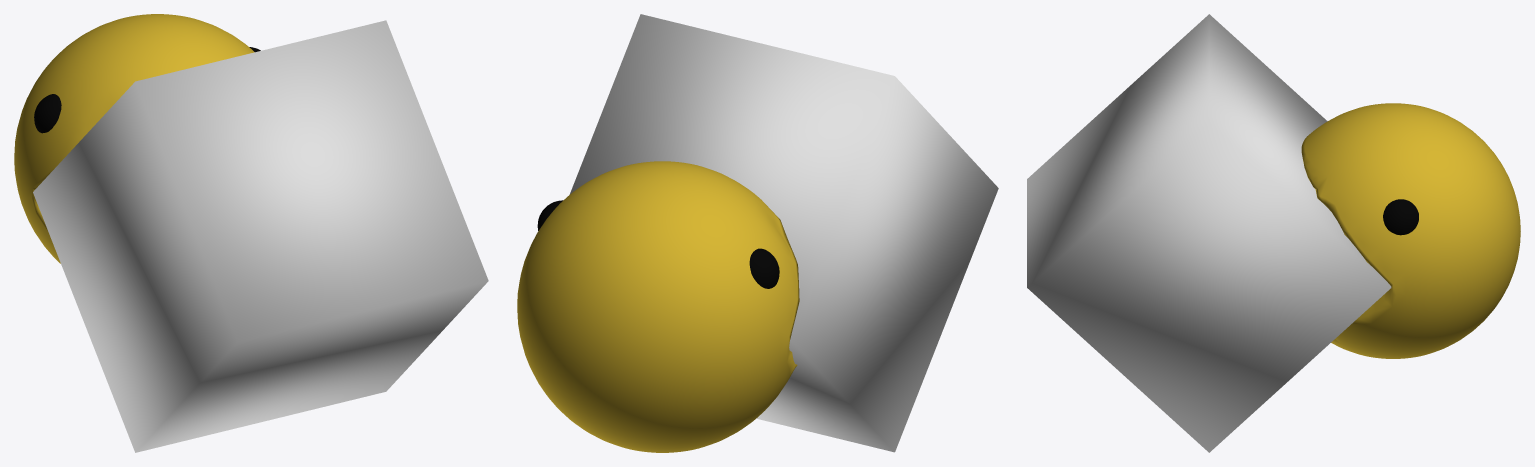
File: pacmanblend.fbx
The picture shows the model from 3 angles, left to right: view 1: azimuth 30°, elevation 25°; view 2: azimuth 150°, elevation 25°; view 3: azimuth 270°, elevation 25°; orthographic projection. The views are drawn at different scales.
Parts seen in each view (by area): view 1: Cube, Sphere, Sphere_001; view 2: Cube, Sphere, Sphere_001; view 3: Cube, Sphere, Sphere_002.
Part boxes in pixels (x1,y1,x2,y2): Cube: (33, 20, 488, 452); Sphere: (14, 14, 254, 263); Sphere_001: (34, 94, 61, 133); Cube: (569, 14, 998, 452); Sphere: (517, 161, 799, 452); Sphere_001: (749, 248, 779, 288); Cube: (1027, 14, 1391, 452); Sphere: (1301, 103, 1520, 358); Sphere_002: (1383, 199, 1418, 235).
Bounding box in the file's own units: 2 × 2.83 × 3.83.
